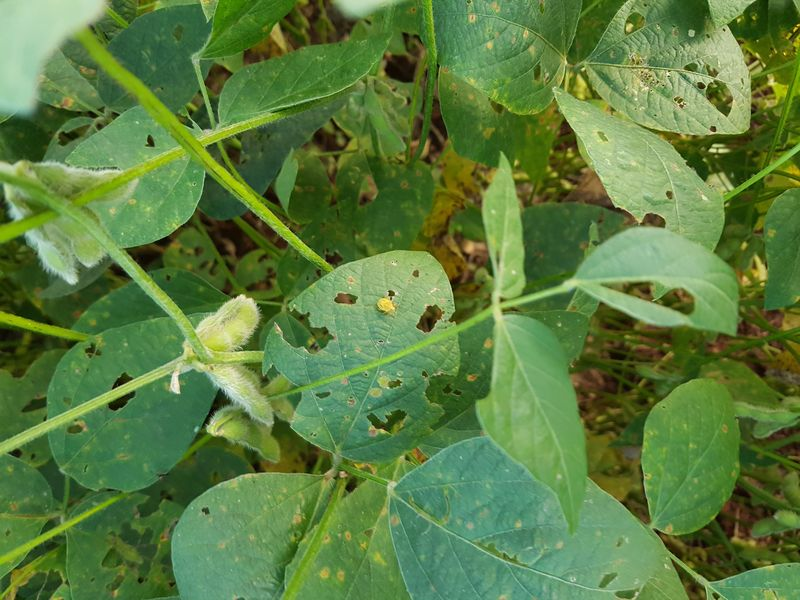Euschistus_heros_ninfa: (372, 294, 398, 318)
